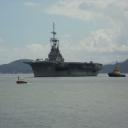Portanaves: (23, 23, 105, 79)
